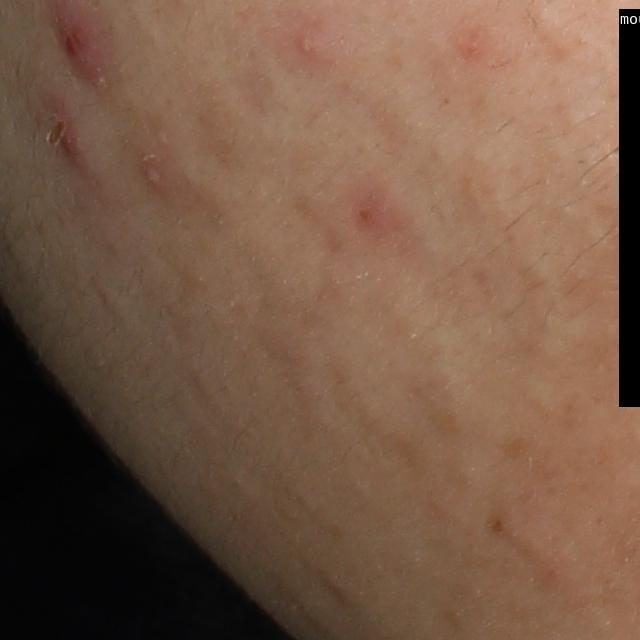papule: (35, 94, 88, 163)
